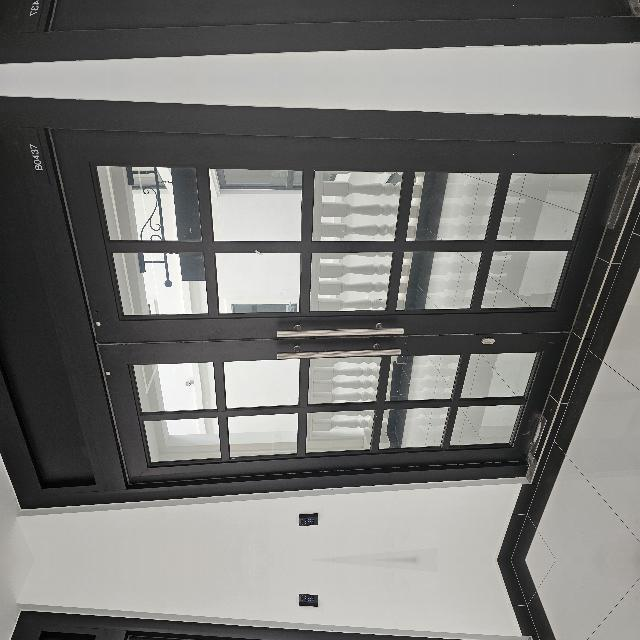door: (49, 81, 462, 640), (49, 401, 462, 640), (49, 0, 462, 78)
